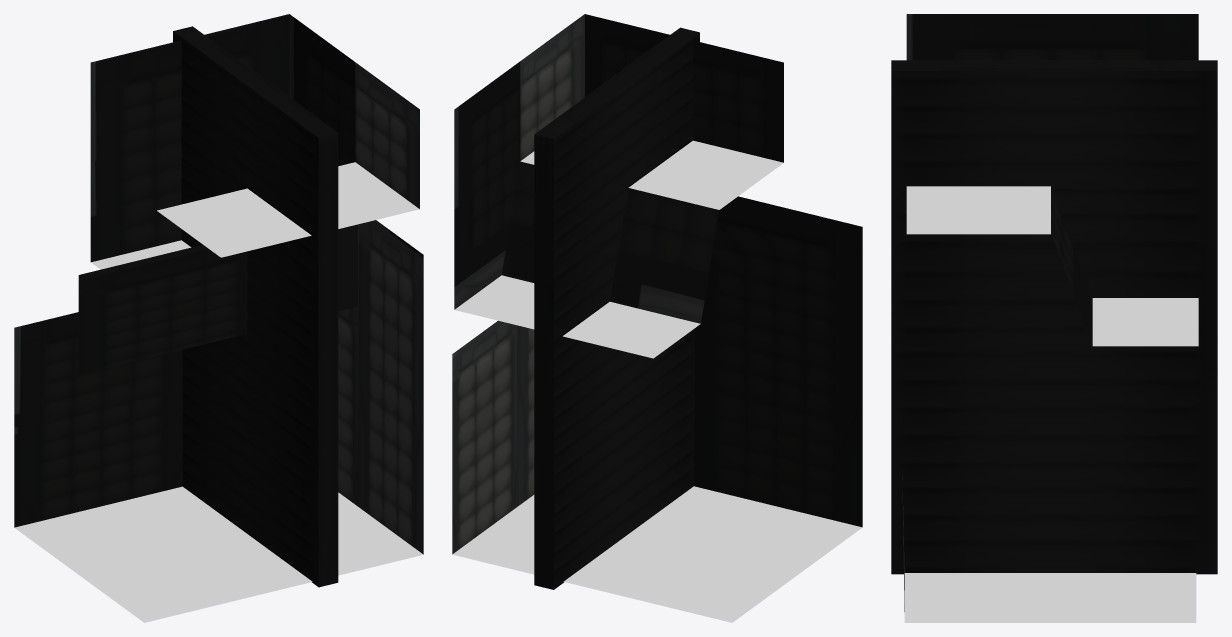
Rendered from C.H.I.L.D. Building 1.fbx.
3 views of the same model, side by side, from view 1: azimuth 30°, elevation 25°; view 2: azimuth 150°, elevation 25°; view 3: azimuth 270°, elevation 25° (orthographic). The views are drawn at different scales.
Parts seen in each view (by area): view 1: Cube.002; view 2: Cube.002; view 3: Cube.002.
Boxes of the visible parts, box(x1,y1,x2,y2) form: Cube.002: box(14, 14, 423, 622); Cube.002: box(452, 14, 862, 622); Cube.002: box(891, 14, 1217, 622).
Bounding box in the file's own units: 341 × 524 × 308.
